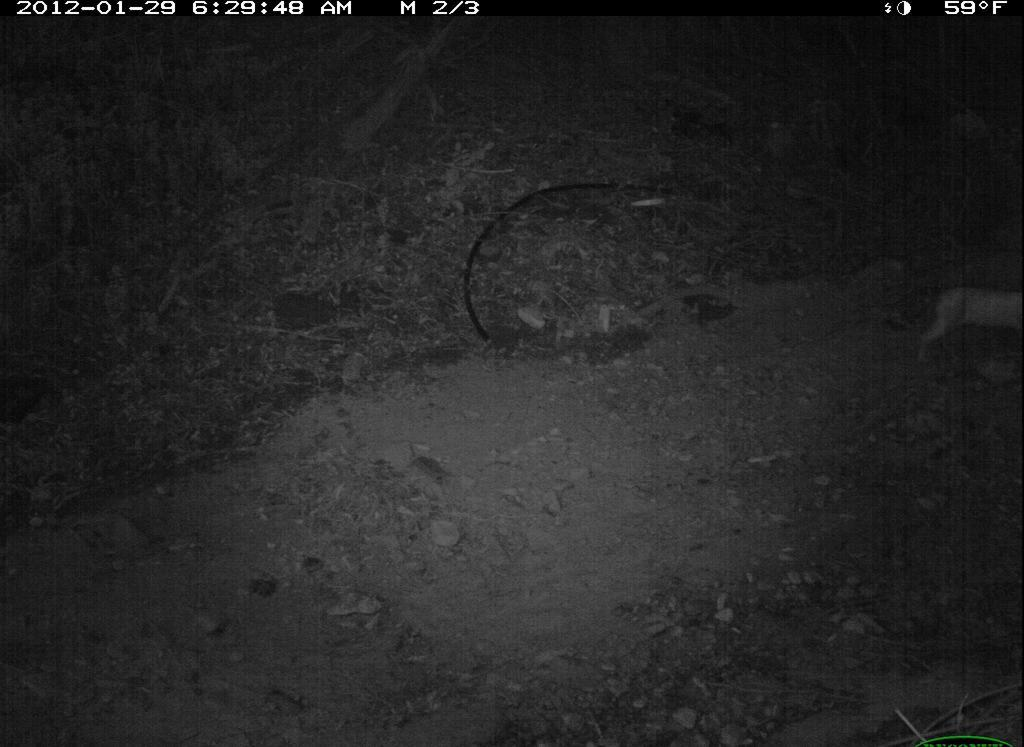cat: (897, 259, 1021, 365)
